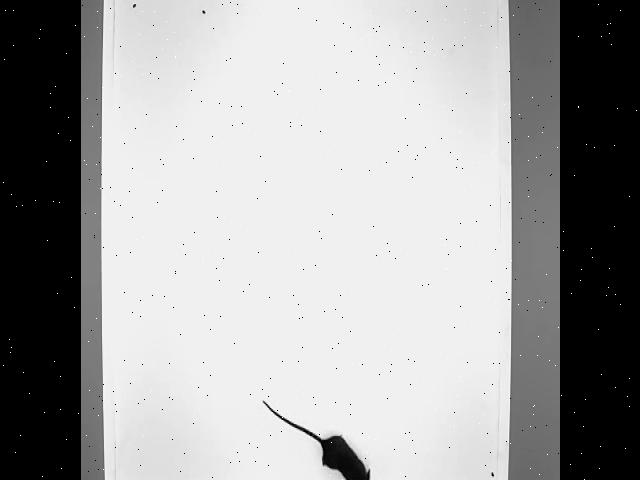Tikus: (260, 398, 375, 480)
